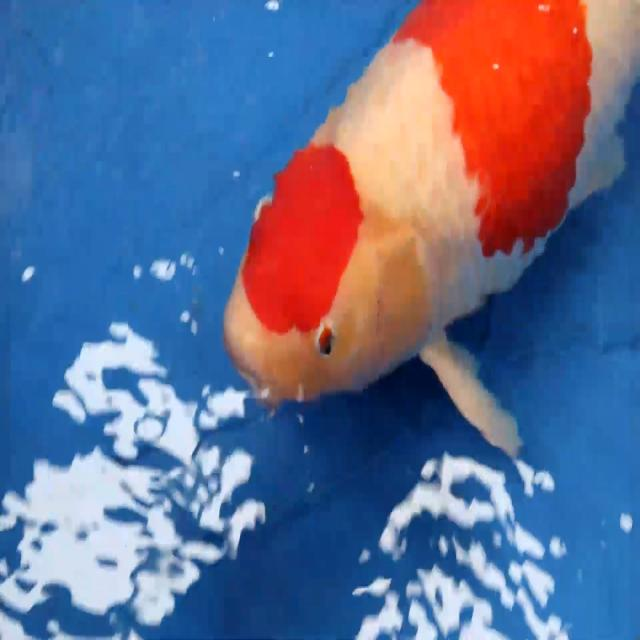Kohaku: (221, 0, 640, 463)
